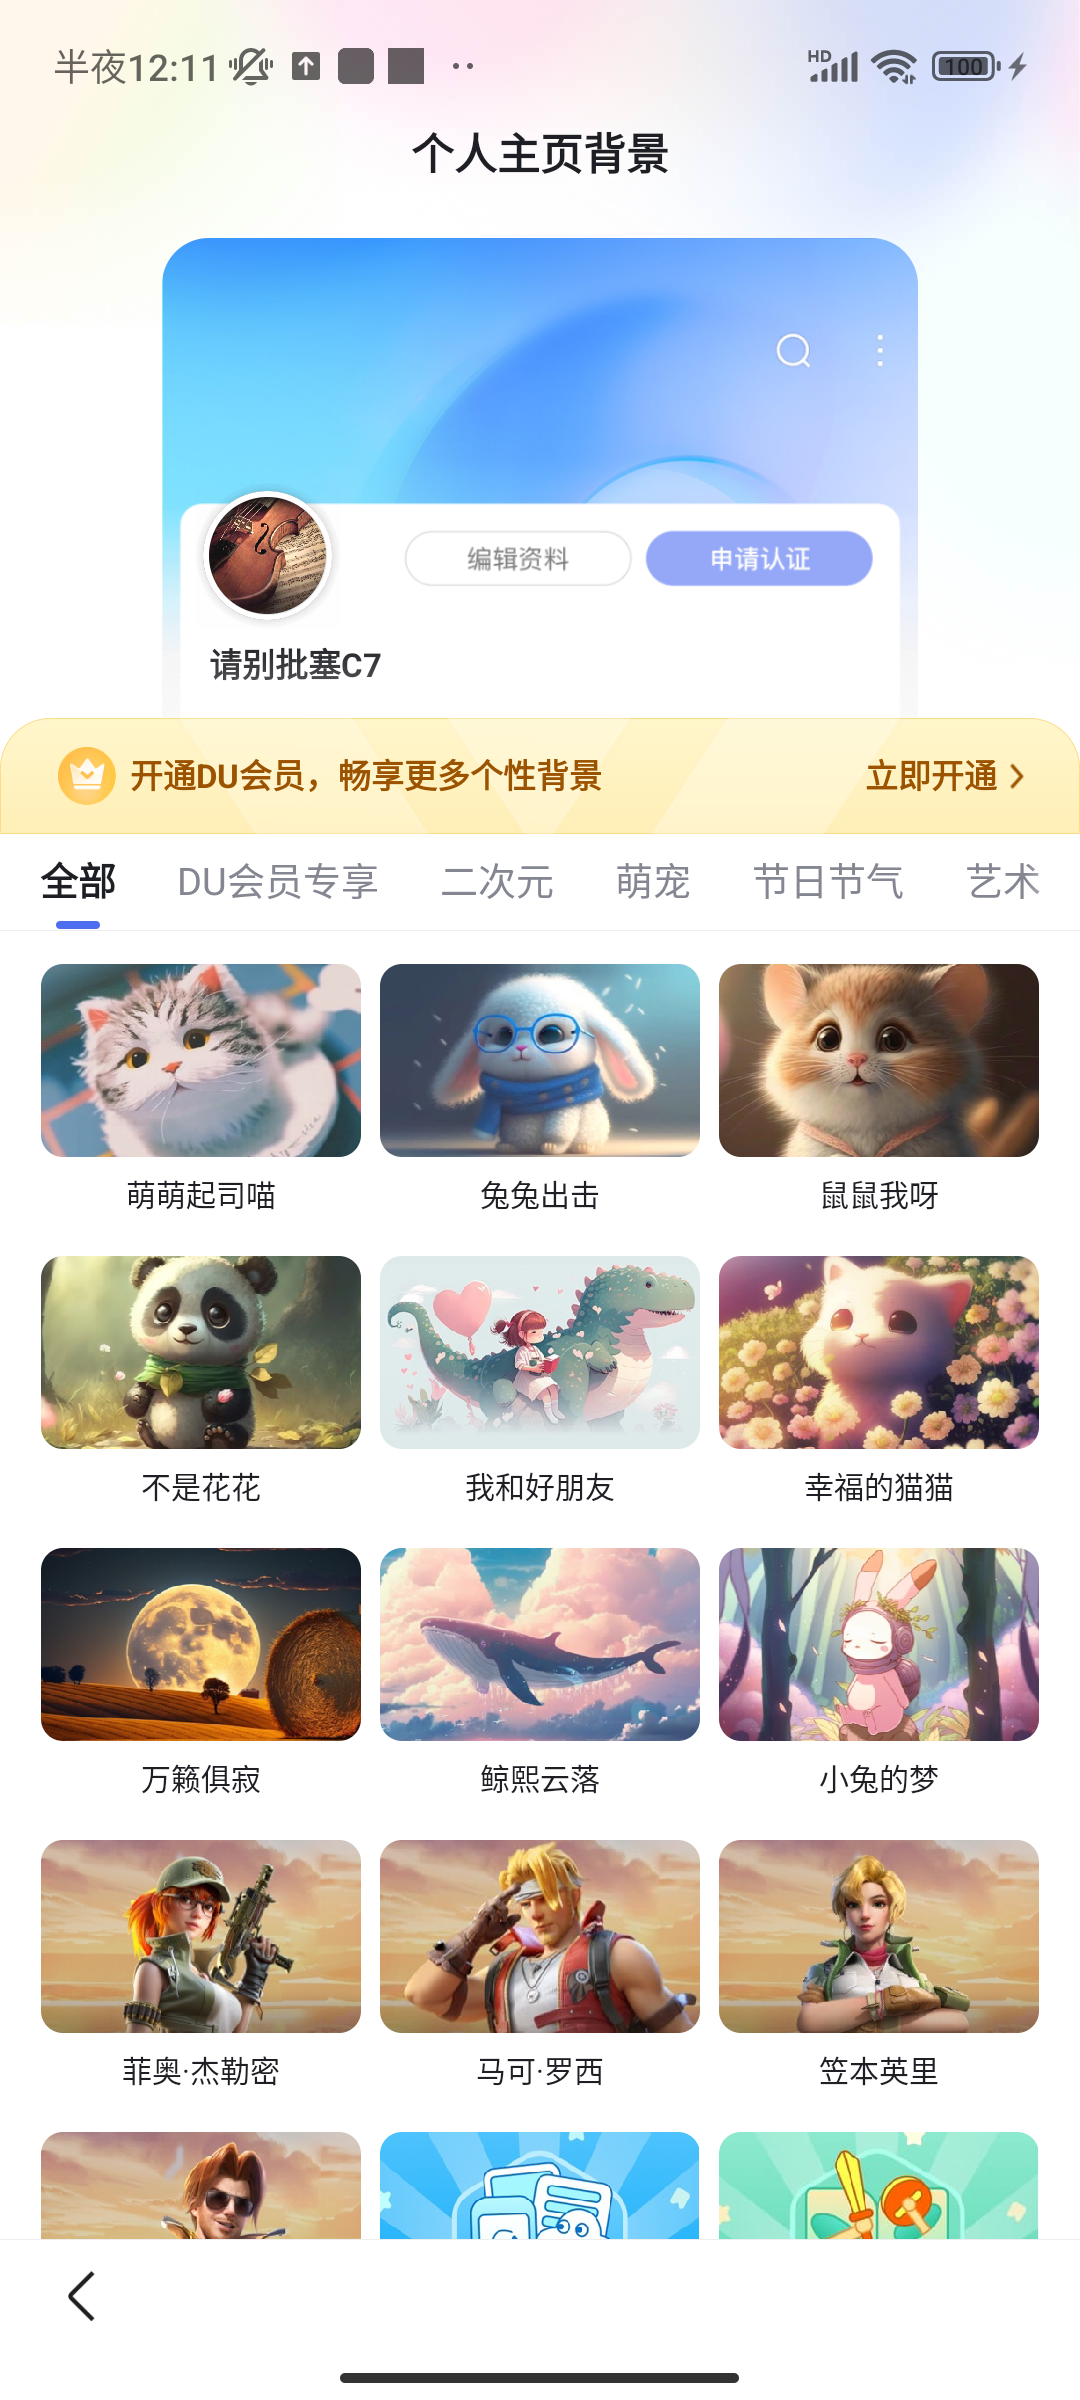ui_group: (2, 716, 1080, 845)
